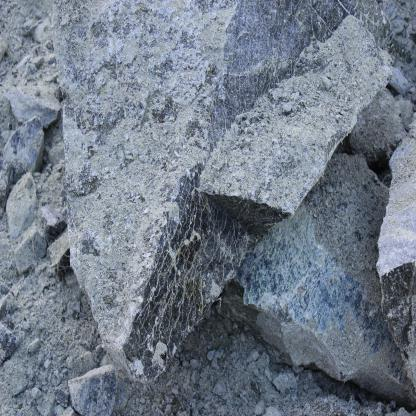stone: (221, 154, 413, 392), (2, 117, 46, 179), (69, 365, 121, 416), (5, 84, 61, 131), (6, 173, 39, 240), (13, 226, 47, 275)
